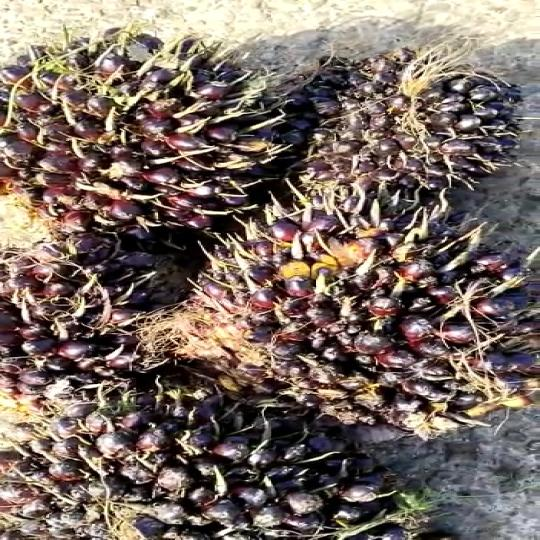kurang masak: (0, 388, 466, 539), (13, 22, 279, 264), (183, 191, 498, 387), (277, 28, 512, 220), (0, 241, 218, 406)
